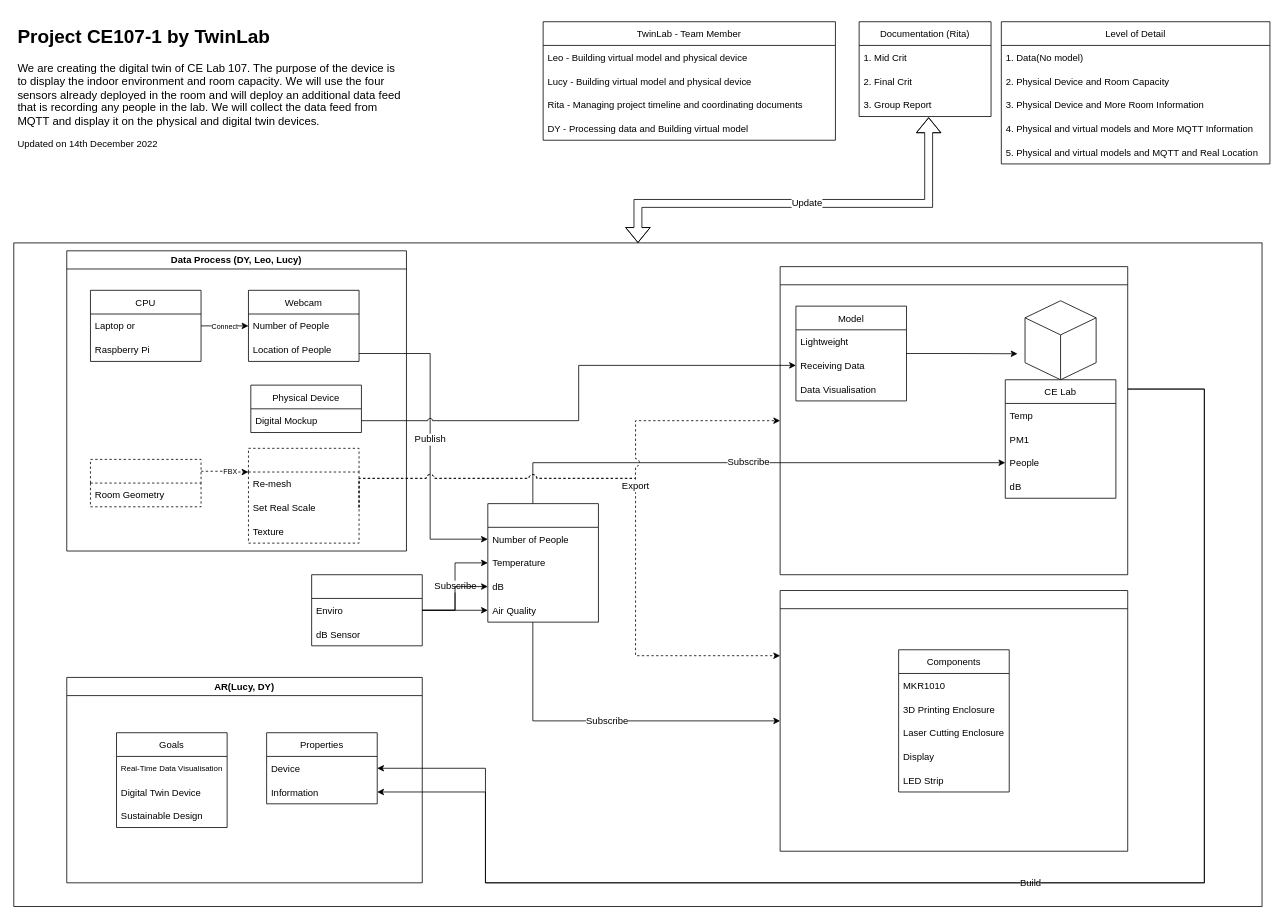
The diagram is 1284 pixels wide and 920 high, and some of its shapes have lost their labels. Here are the shapes that lost their labels. From the top down, the box of each, then its label:
(779, 266, 1128, 575): Unity (Leo, DY)
(90, 459, 201, 507): LiDAR
(248, 448, 359, 543): Blender
(487, 503, 598, 622): MQTT
(311, 574, 422, 646): CE Lab 107(MQTT)
(779, 590, 1128, 851): Physical Device(Leo, Lucy)
